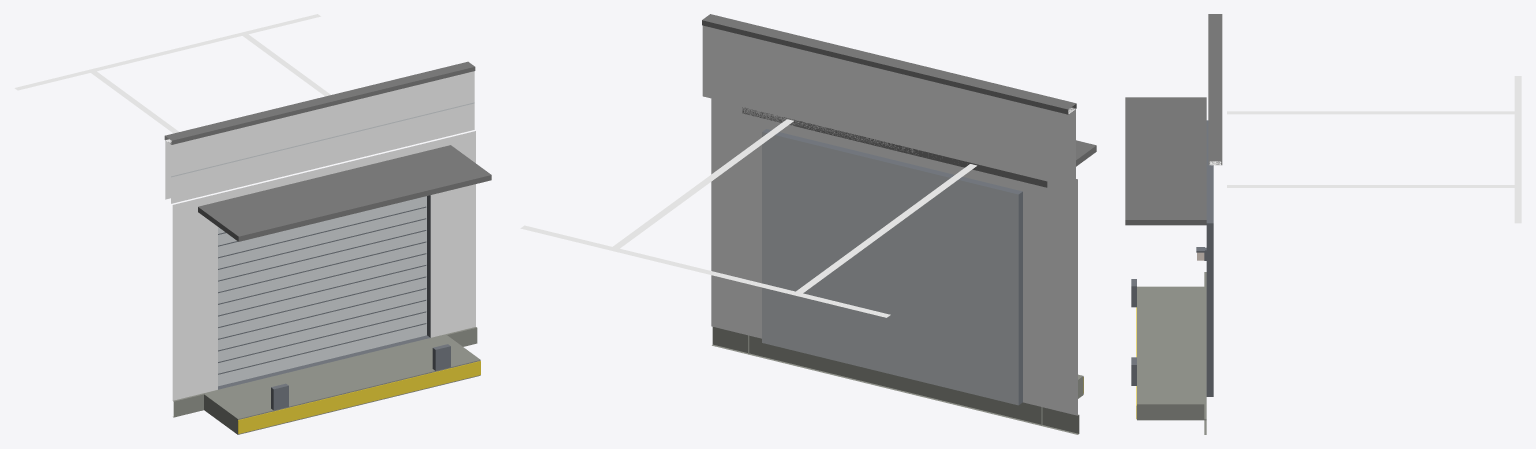
Rendered from base-w3_close.fbx.
3 views of the same model, side by side, from view 1: azimuth 30°, elevation 25°; view 2: azimuth 150°, elevation 25°; view 3: azimuth 270°, elevation 25° (orthographic). The views are drawn at different scales.
Visible parts, largest first — view 1: a2008/0/base-w3_close; view 2: a2008/0/base-w3_close; view 3: a2008/0/base-w3_close.
Part boxes in pixels (x1,y1,x2,y2): a2008/0/base-w3_close: (14,14,491,434); a2008/0/base-w3_close: (520,14,1096,434); a2008/0/base-w3_close: (1125,14,1521,434).
Bounding box in the file's own units: 6 × 5.2 × 6.82.
